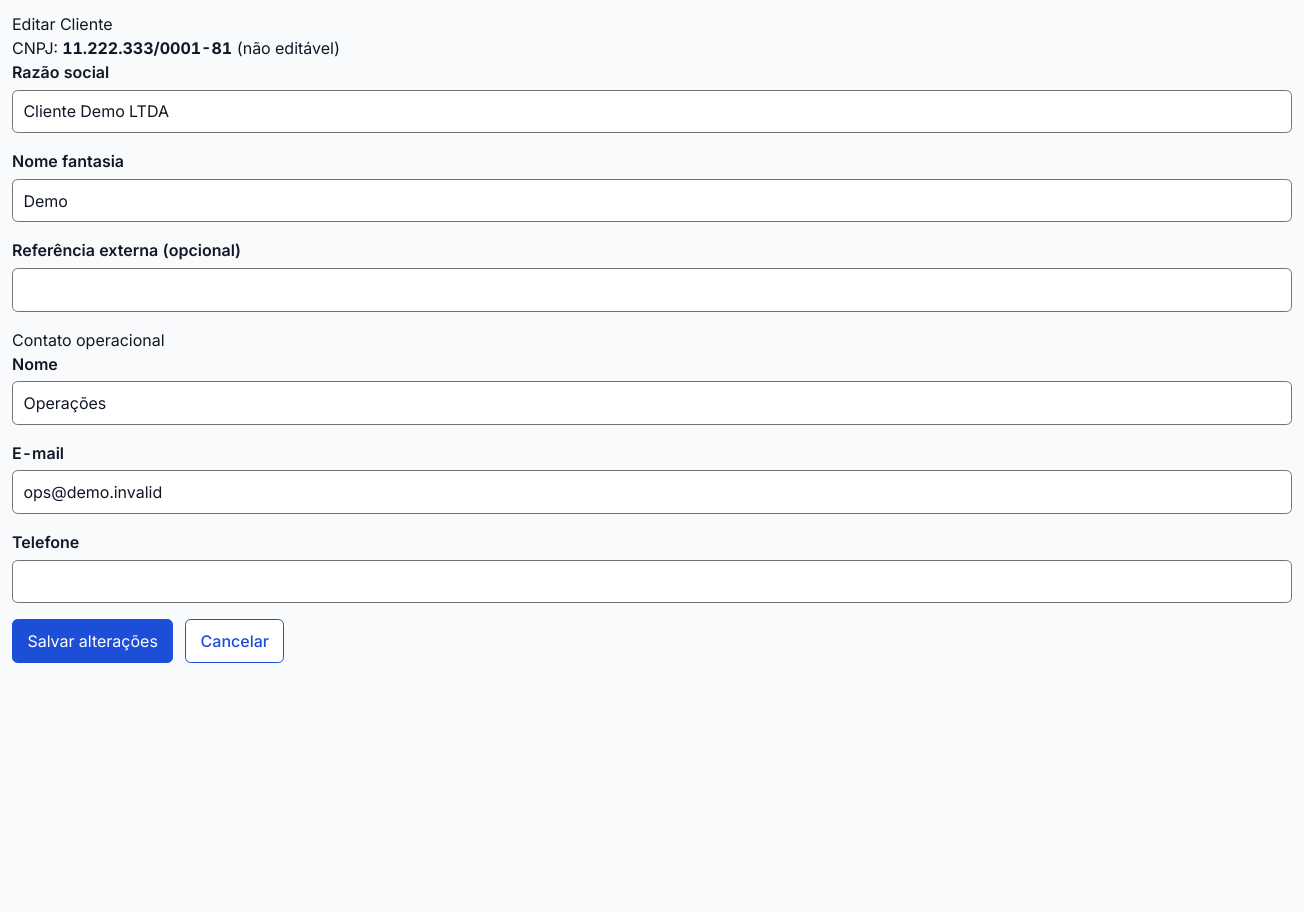
Test: ClientEditPage › shows version conflict without silent overwrite
Replace the text in the field labelled "Razão social" with "Alterado" at [652, 111], box [12,90,1292,133]
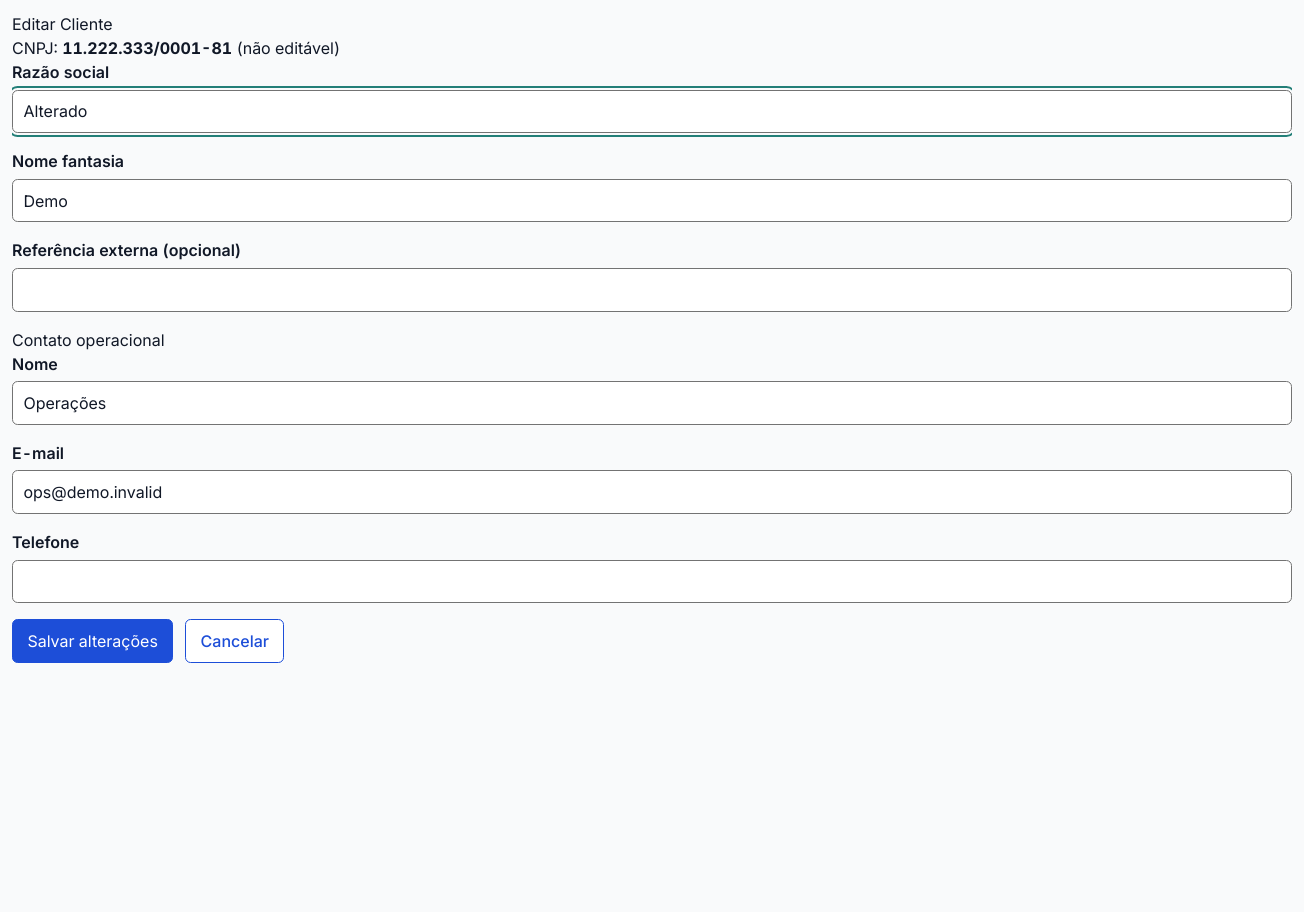
Click the button "Salvar alterações" at [93, 641], box [12,619,173,663]
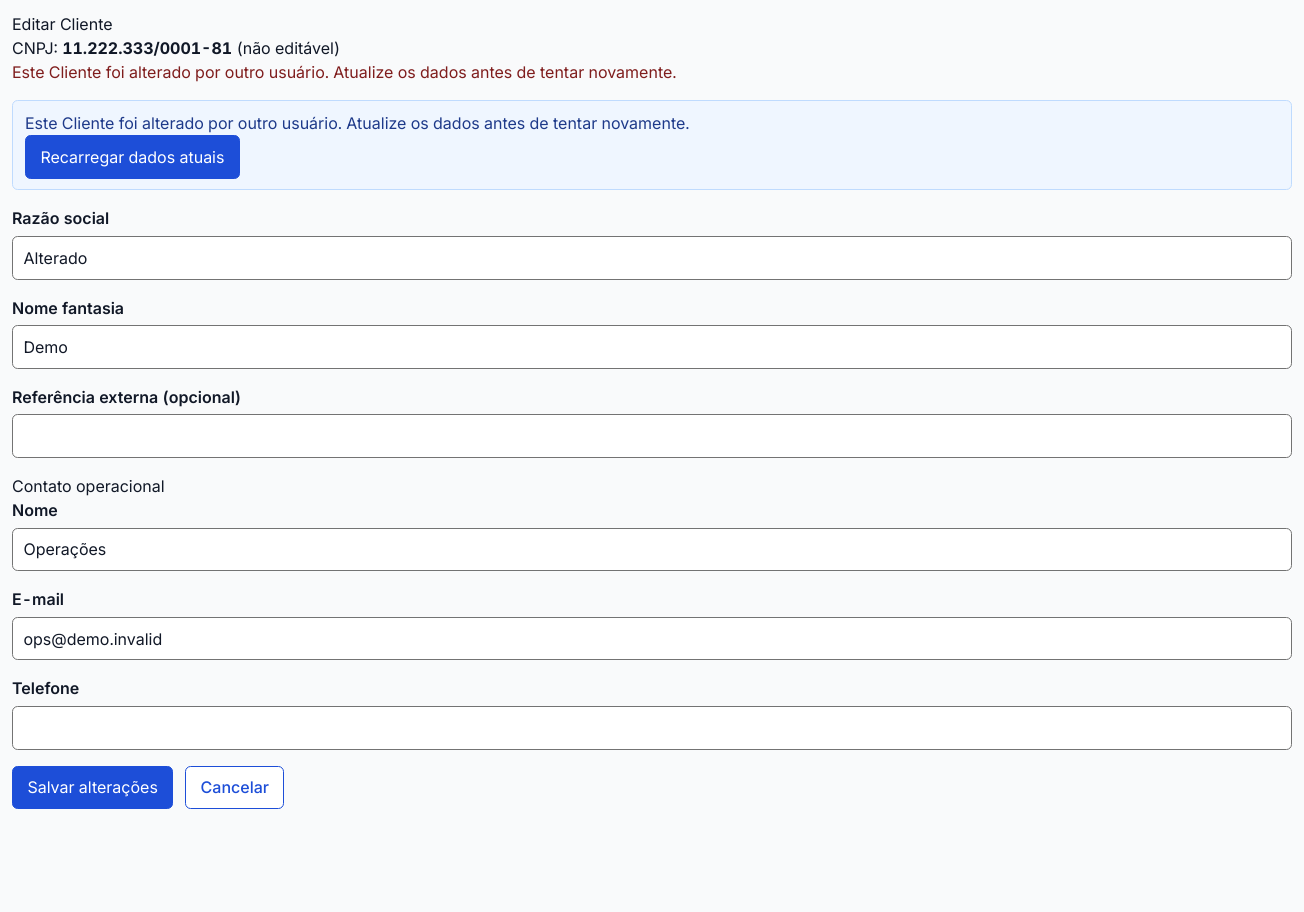
Check: the 1st message shows "Este Cliente foi alterado por outro usuário. Atualize os dados antes de tentar novamente.", box [12,62,677,82]
